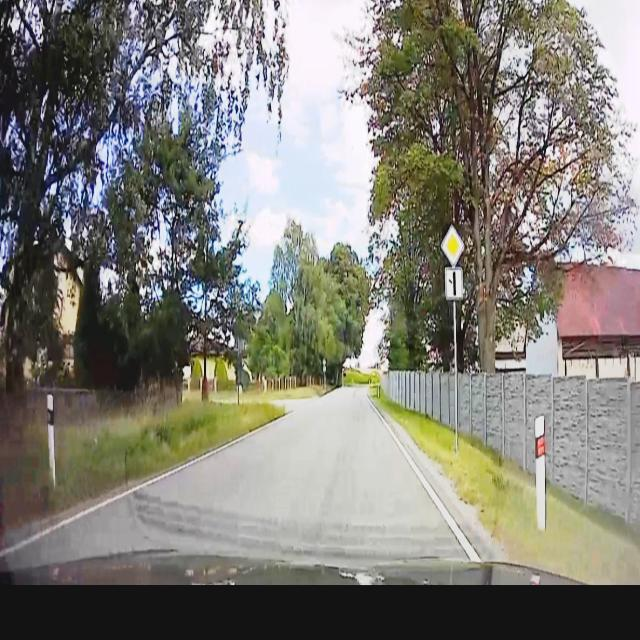Priority road: (438, 214, 465, 265)
